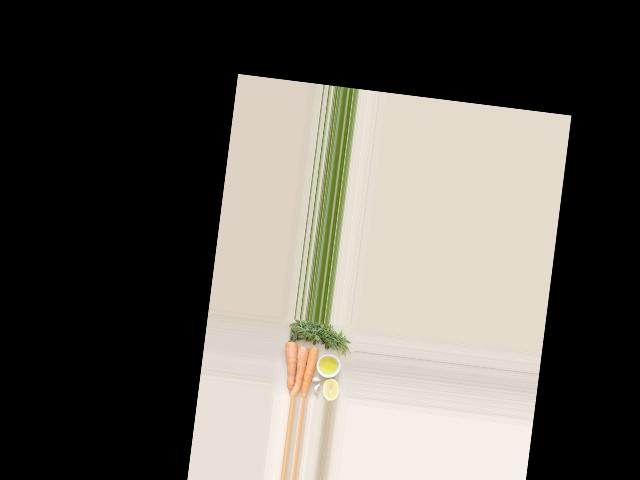carrot: (299, 343, 319, 399)
